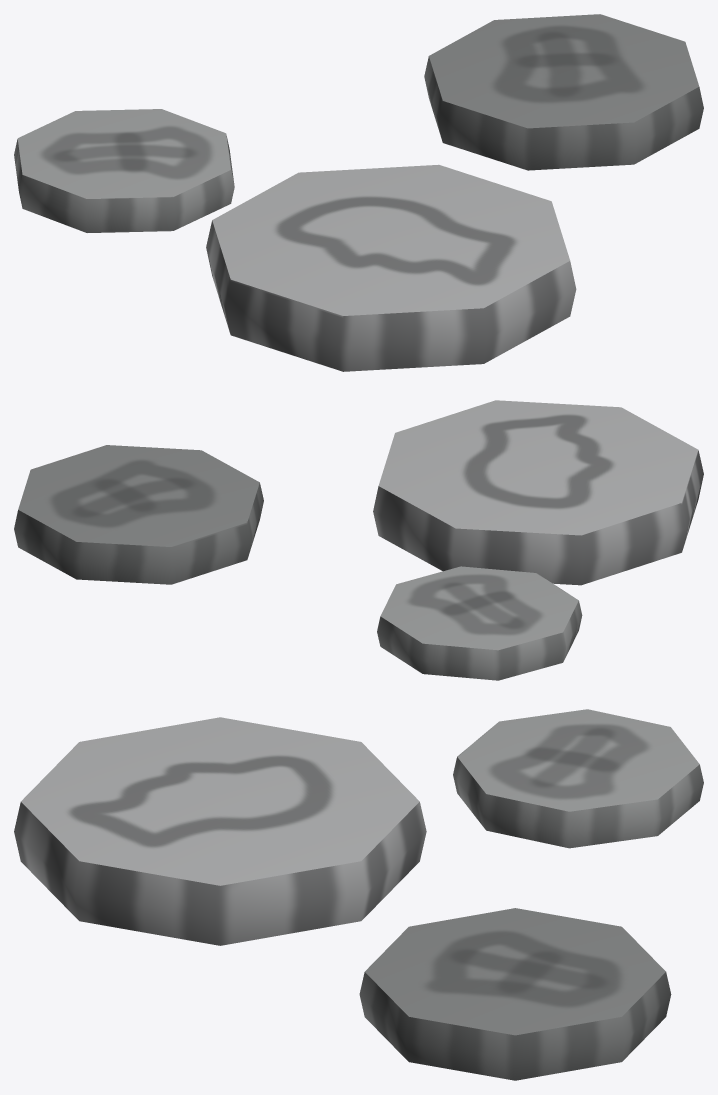
File: obj_Coins.fbx
The picture shows the model from 3 angles, top to bottom: view 1: azimuth 30°, elevation 25°; view 2: azimuth 150°, elevation 25°; view 3: azimuth 270°, elevation 25°; orthographic projection. The views are drawn at different scales.
Visible parts, largest first — view 1: Cylinder.002; view 2: Cylinder.002; view 3: Cylinder.002.
Part boxes in pixels (x1,y1,x2,y2): Cylinder.002: (14, 14, 703, 371); Cylinder.002: (14, 400, 703, 680); Cylinder.002: (14, 709, 703, 1080).
Bounding box in the file's own units: 0.0957 × 0.0101 × 0.0835.
1 material, 1 textured.
